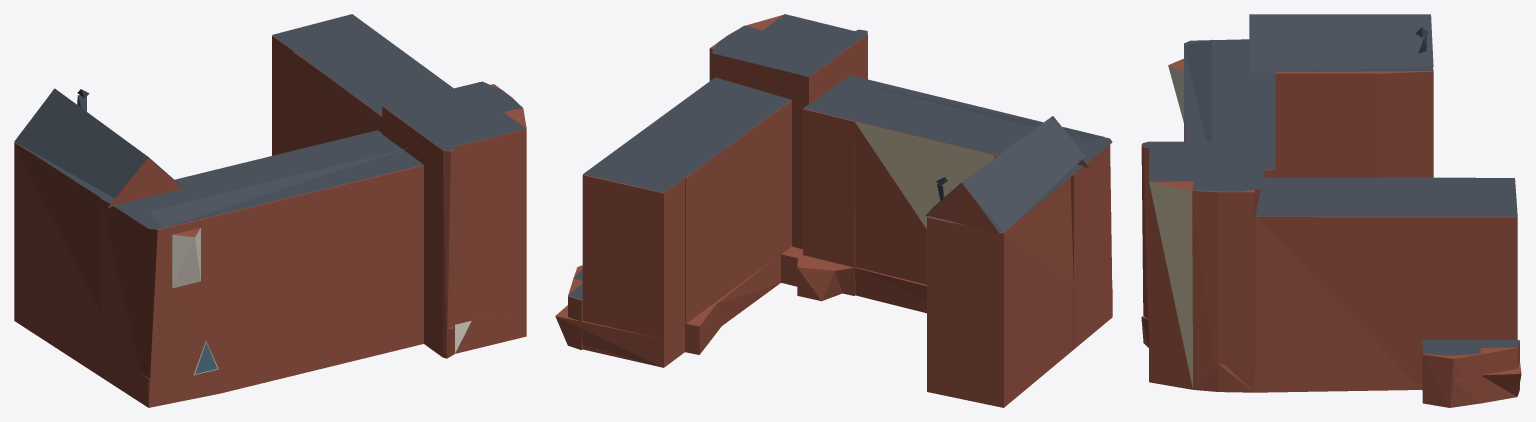
File: huize-lydia.lod2.glb
3 views of the same model, side by side, from view 1: azimuth 30°, elevation 25°; view 2: azimuth 150°, elevation 25°; view 3: azimuth 270°, elevation 25° (orthographic). The views are drawn at different scales.
Visible parts, largest first — view 1: lod2; view 2: lod2; view 3: lod2.
Boxes of the visible parts, x1=… form: lod2: x1=14, y1=14, x2=526, y2=407; lod2: x1=555, y1=14, x2=1112, y2=407; lod2: x1=1141, y1=14, x2=1521, y2=407.
Bounding box in the file's own units: 49.29 × 24.62 × 39.66.
